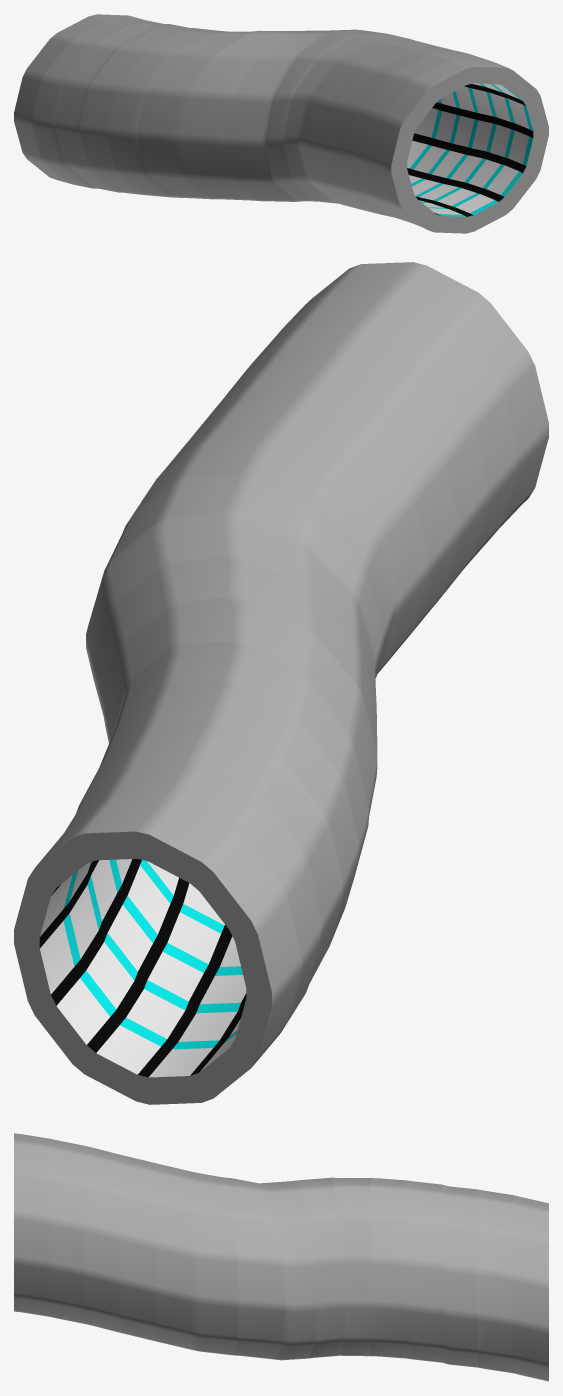
The model's file is 03-Curva-Cima-Esq-01.fbx.
The picture shows the model from 3 angles, top to bottom: view 1: azimuth 30°, elevation 25°; view 2: azimuth 150°, elevation 25°; view 3: azimuth 270°, elevation 25°; orthographic projection. The views are drawn at different scales.
Visible parts, largest first — view 1: Base16; view 2: Base16; view 3: Base16.
Boxes of the visible parts, x1,y1,x2,y2 form: Base16: (14,14,548,233); Base16: (14,262,548,1104); Base16: (14,1133,548,1381).
Size of the model in its own units: 8292 by 8696 by 15000.
